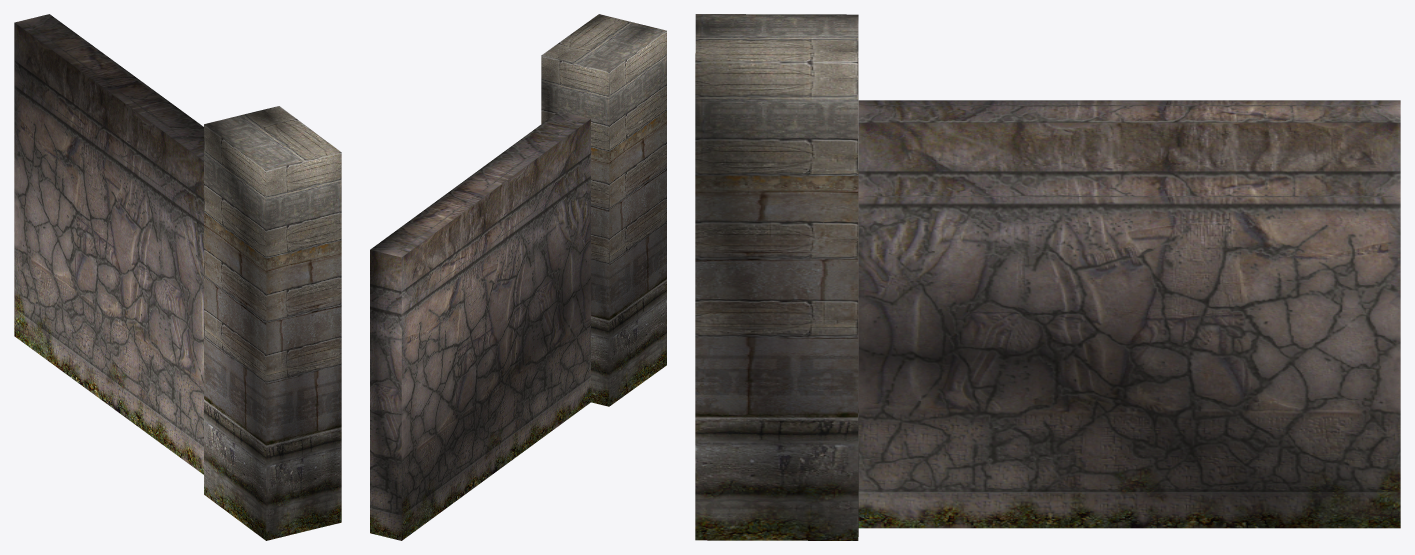
Rendered from wall.obj.
3 views of the same model, side by side, from view 1: azimuth 30°, elevation 25°; view 2: azimuth 150°, elevation 25°; view 3: azimuth 270°, elevation 25° (orthographic). The views are drawn at different scales.
Visible parts, largest first — view 1: Frame 1; view 2: Frame 1; view 3: Frame 1.
Boxes of the visible parts, bbox=[...] form: Frame 1: bbox=[14, 14, 341, 540]; Frame 1: bbox=[370, 14, 666, 540]; Frame 1: bbox=[695, 14, 1400, 540].
Size of the model in its own units: 75.85 by 353 by 471.
Materials: 1 (1 with a texture image).
